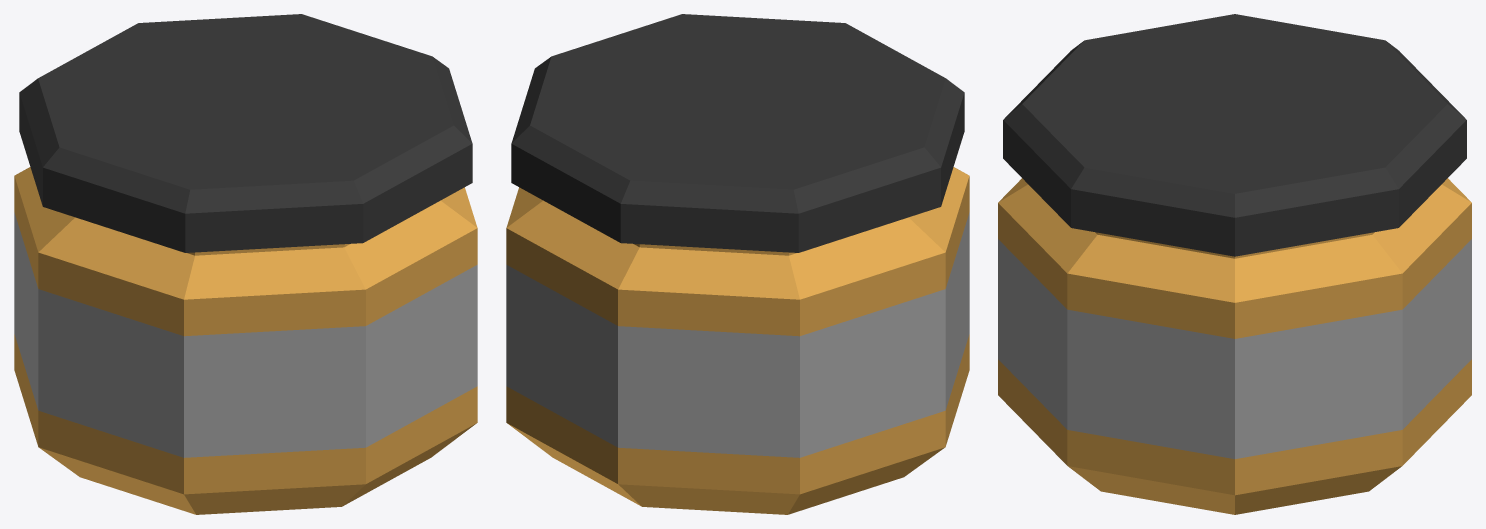
Rendered from SpiceJar3.fbx.
The picture shows the model from 3 angles, left to right: view 1: azimuth 30°, elevation 25°; view 2: azimuth 150°, elevation 25°; view 3: azimuth 270°, elevation 25°; orthographic projection.
Parts seen in each view (by area): view 1: SpiceJar3; view 2: SpiceJar3; view 3: SpiceJar3.
Boxes of the visible parts, box(x1,y1,x2,y2) form: SpiceJar3: box(14, 14, 477, 514); SpiceJar3: box(506, 14, 969, 514); SpiceJar3: box(998, 14, 1471, 514).
Bounding box in the file's own units: 25.86 × 19.93 × 25.86.
